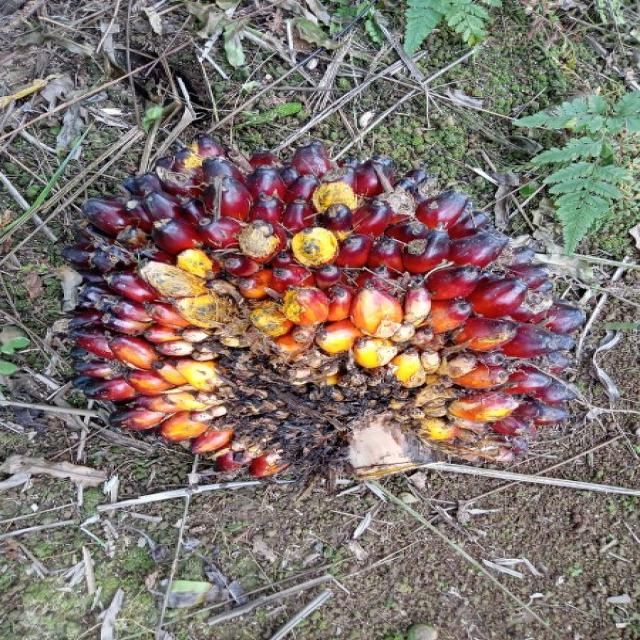fraksi 1: (36, 107, 608, 536)
